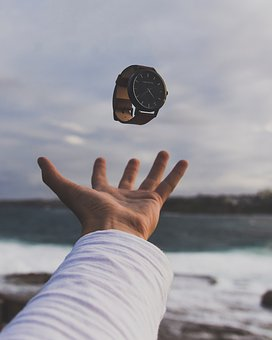palm: (89, 179, 156, 232)
